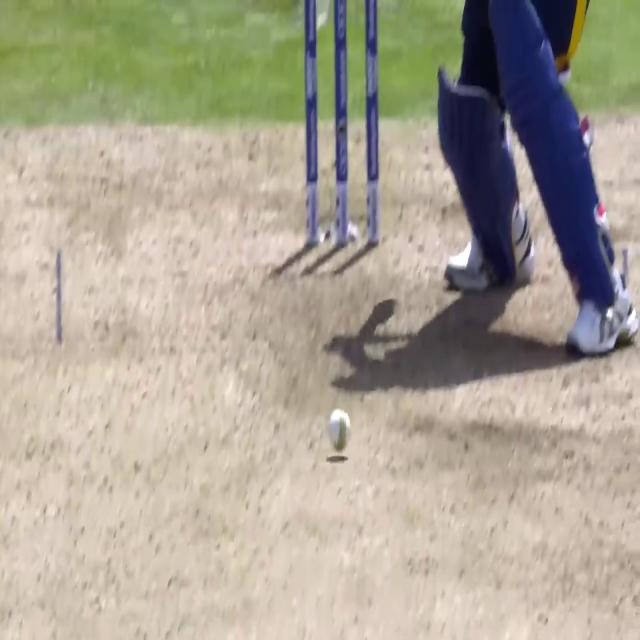ball: (328, 406, 352, 452)
